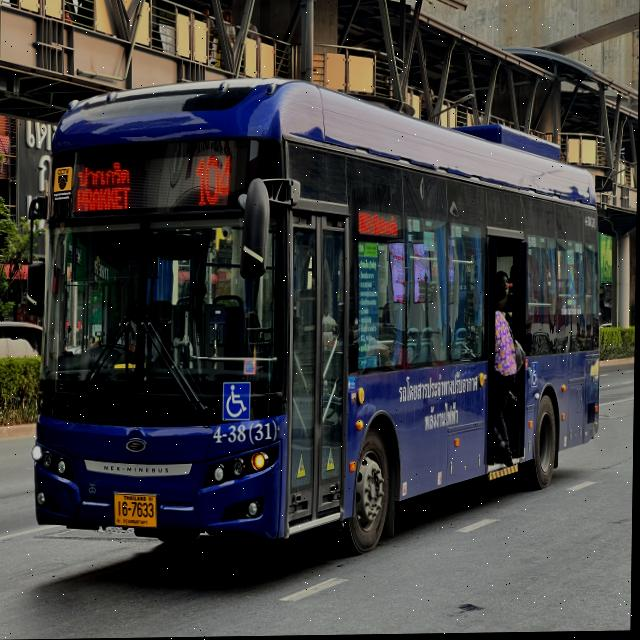Bus-Line-Number: (191, 142, 235, 215)
Destination-Sign-Normal: (72, 153, 139, 219)
TSB-Bus: (25, 64, 612, 575)
